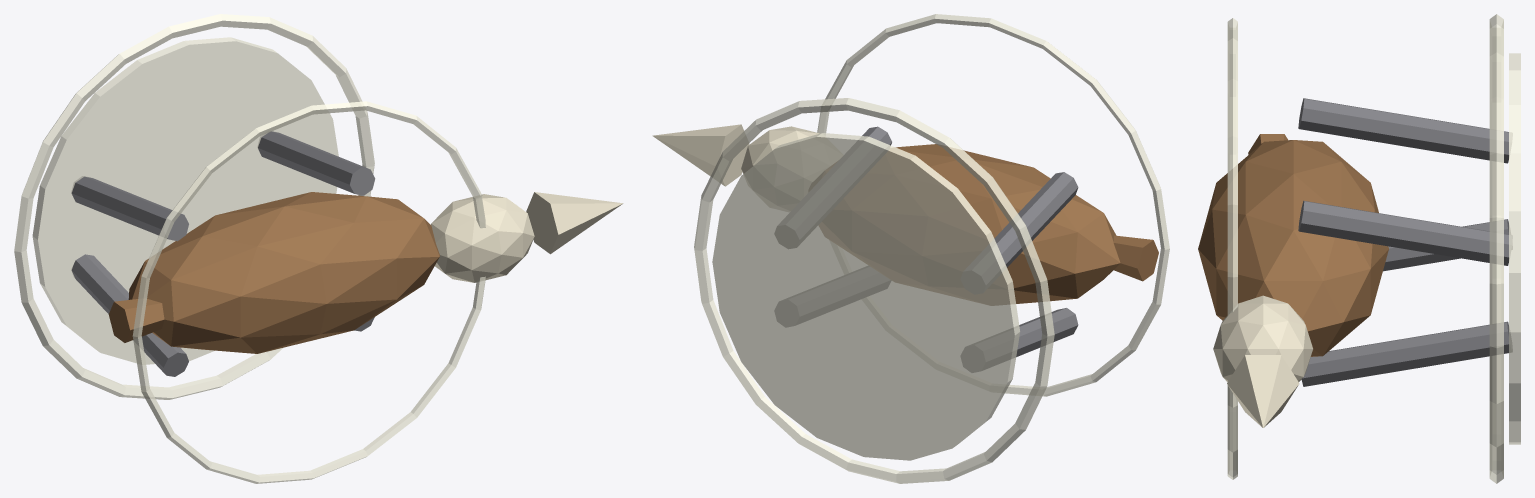
File: snow_hare_proxy.glb
The picture shows the model from 3 angles, left to right: view 1: azimuth 30°, elevation 25°; view 2: azimuth 150°, elevation 25°; view 3: azimuth 270°, elevation 25°; orthographic projection. The views are drawn at different scales.
Visible parts, largest first — view 1: marker_disc, body, marker_ring, pounce_arc, head, leg_3, leg_1, snout, leg_0, tail; view 2: marker_disc, body, marker_ring, pounce_arc, head, leg_1, leg_3, leg_0, snout, leg_2, tail; view 3: body, marker_ring, leg_1, leg_3, leg_2, head, marker_disc, pounce_arc, snout, leg_0.
Part boxes in pixels (x1=…): marker_disc: x1=32, y1=37, x2=338, y2=364; body: x1=128, y1=192, x2=439, y2=353; marker_ring: x1=14, y1=14, x2=374, y2=399; pounce_arc: x1=132, y1=101, x2=485, y2=483; head: x1=431, y1=194, x2=534, y2=282; leg_3: x1=258, y1=131, x2=375, y2=195; leg_1: x1=71, y1=176, x2=188, y2=241; snout: x1=526, y1=192, x2=623, y2=254; leg_0: x1=71, y1=254, x2=188, y2=376; tail: x1=108, y1=298, x2=164, y2=342; marker_disc: x1=712, y1=133, x2=1020, y2=460; body: x1=809, y1=144, x2=1120, y2=305; marker_ring: x1=694, y1=98, x2=1054, y2=483; pounce_arc: x1=817, y1=14, x2=1169, y2=396; head: x1=741, y1=126, x2=842, y2=211; leg_1: x1=961, y1=172, x2=1078, y2=293; leg_3: x1=775, y1=126, x2=891, y2=248; leg_0: x1=961, y1=308, x2=1078, y2=372; snout: x1=652, y1=124, x2=749, y2=186; leg_2: x1=775, y1=266, x2=890, y2=326; tail: x1=1113, y1=235, x2=1158, y2=281; body: x1=1198, y1=140, x2=1388, y2=356; marker_ring: x1=1489, y1=14, x2=1503, y2=483; leg_1: x1=1298, y1=98, x2=1512, y2=163; leg_3: x1=1298, y1=200, x2=1512, y2=265; leg_2: x1=1301, y1=321, x2=1512, y2=386; head: x1=1213, y1=295, x2=1312, y2=381; marker_disc: x1=1509, y1=53, x2=1520, y2=444; pounce_arc: x1=1227, y1=18, x2=1237, y2=479; snout: x1=1227, y1=355, x2=1299, y2=427; leg_0: x1=1383, y1=219, x2=1512, y2=271.
Size of the model in its own units: 2.17 by 1.54 by 1.07.
